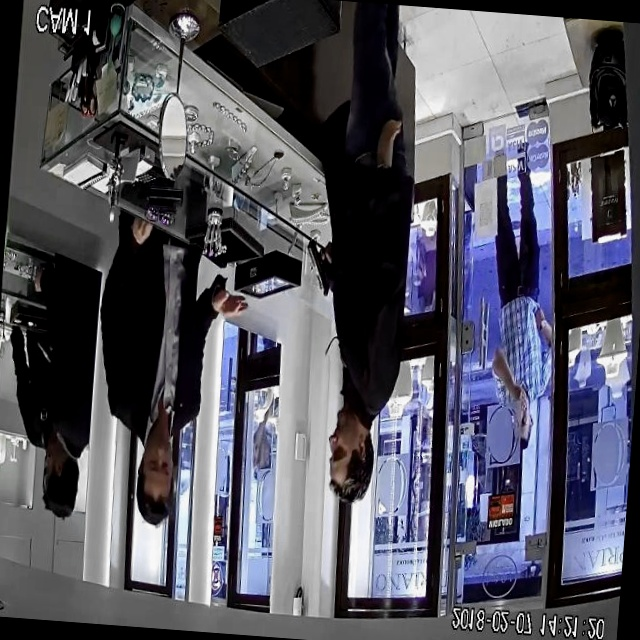gun: (298, 220, 343, 310)
